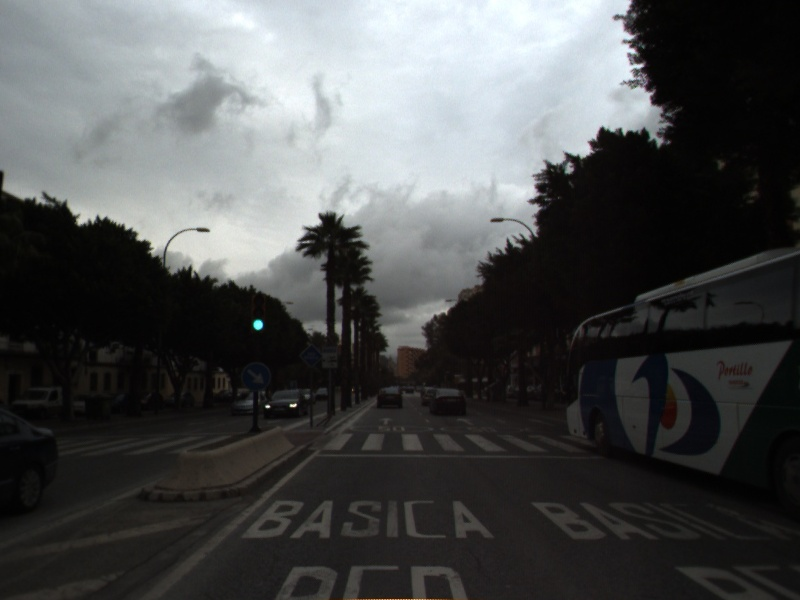STRAIGHT: (453, 415, 477, 428), (376, 415, 396, 427)
